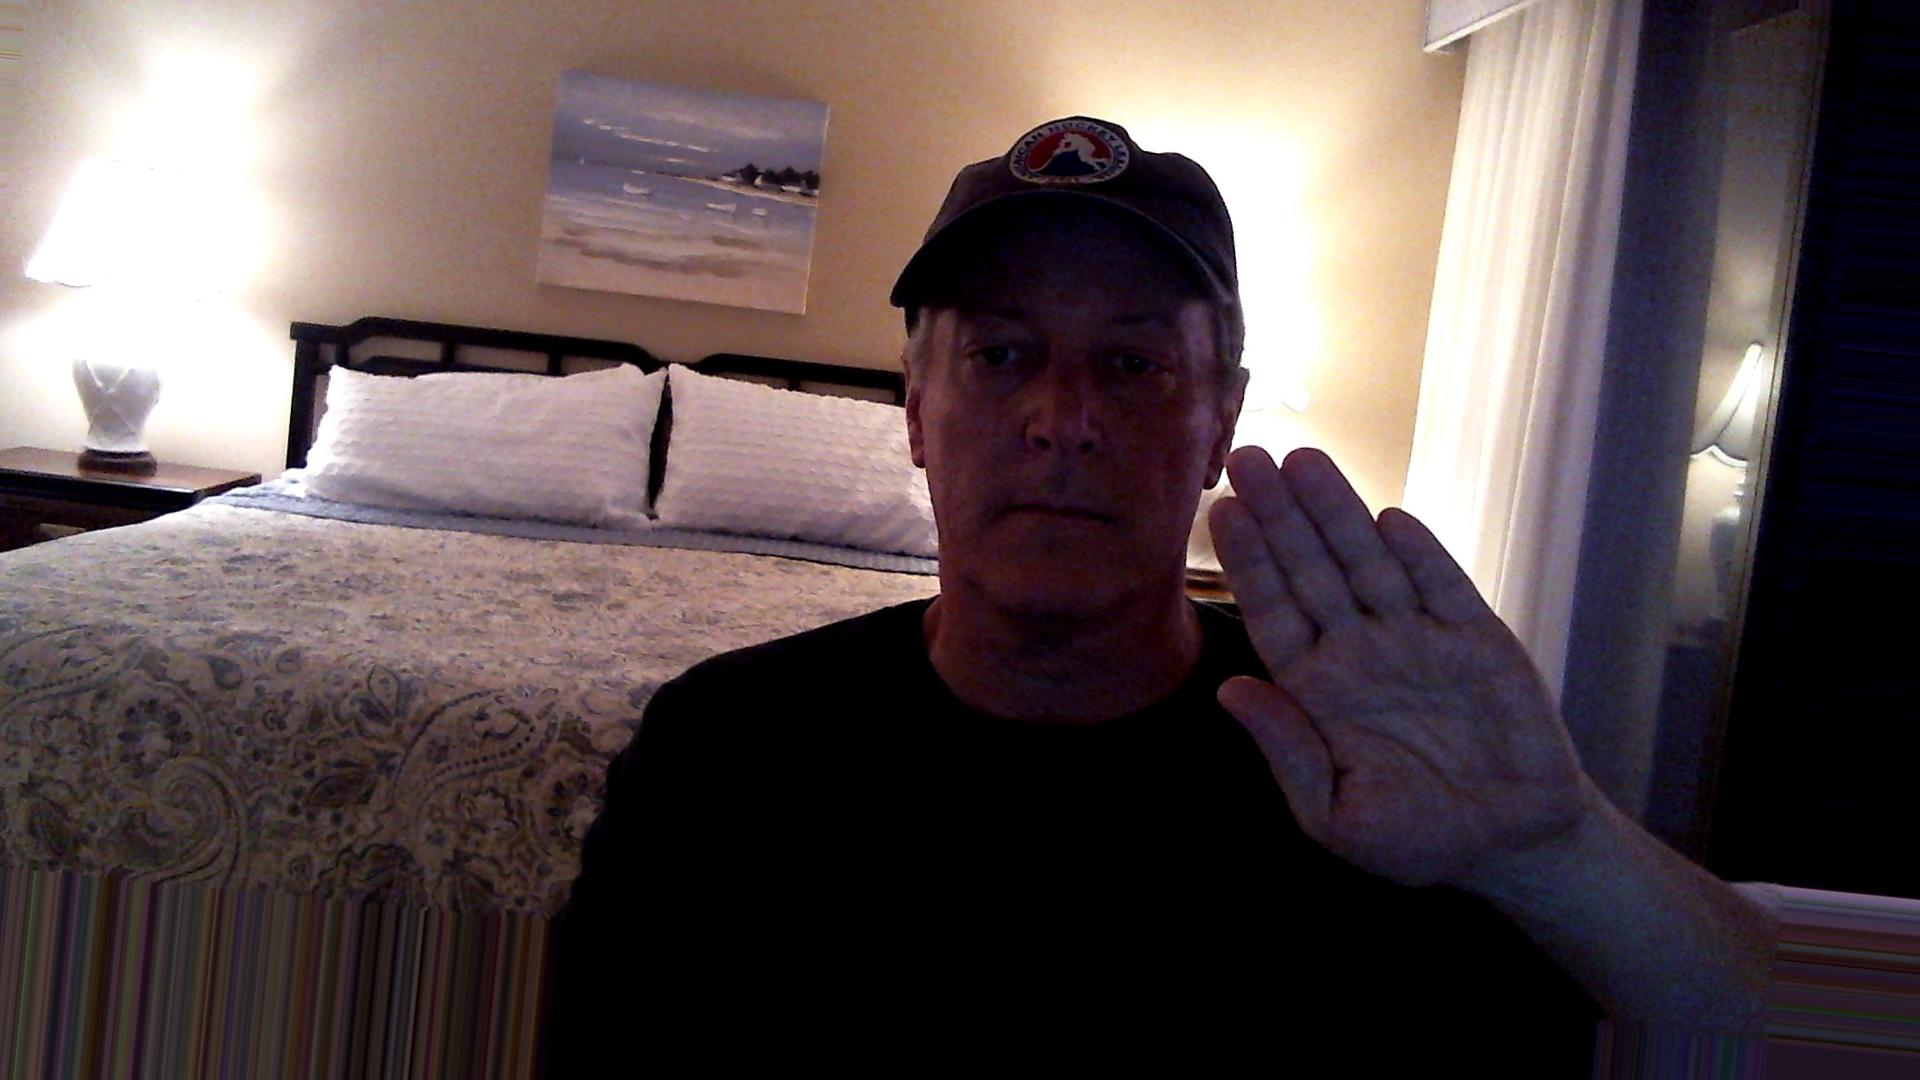Hello: (1183, 433, 1627, 909)
